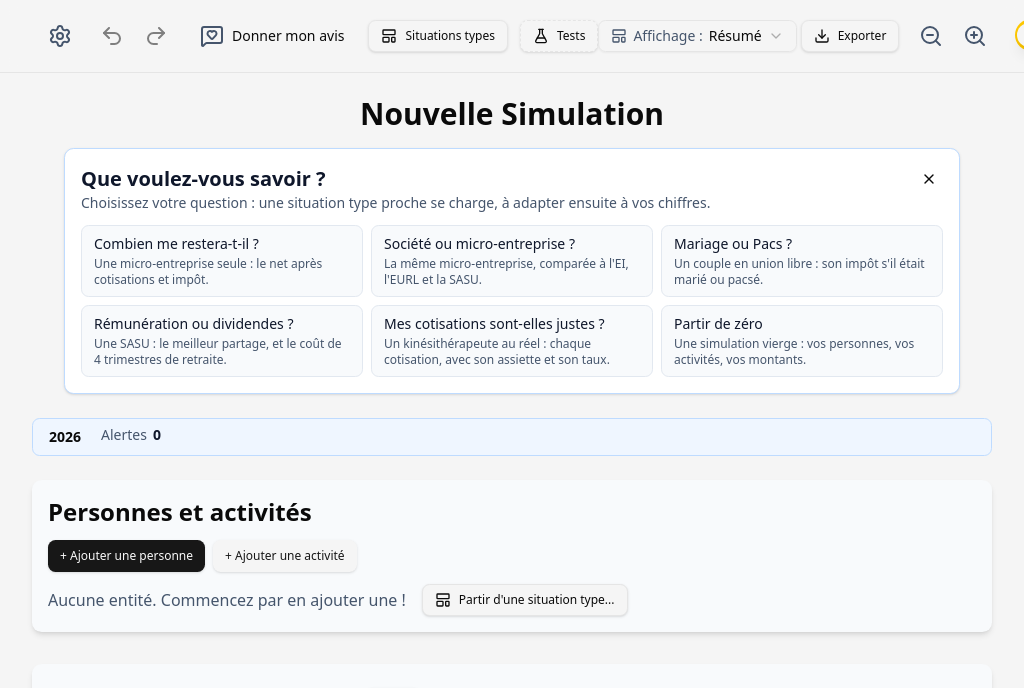
Scenario: App : montages types › depuis une simulation vide, charge un montage sans confirmation, le nomme et remonte en haut
Expected: the heading "Nouvelle Simulation" is shown, left=360, top=93, right=664, bottom=134
What coordinates should you click on to do the following:
click the button "Partir d'une situation type..."
I would click on:
 (525, 600)
Its box is left=422, top=584, right=628, bottom=616.
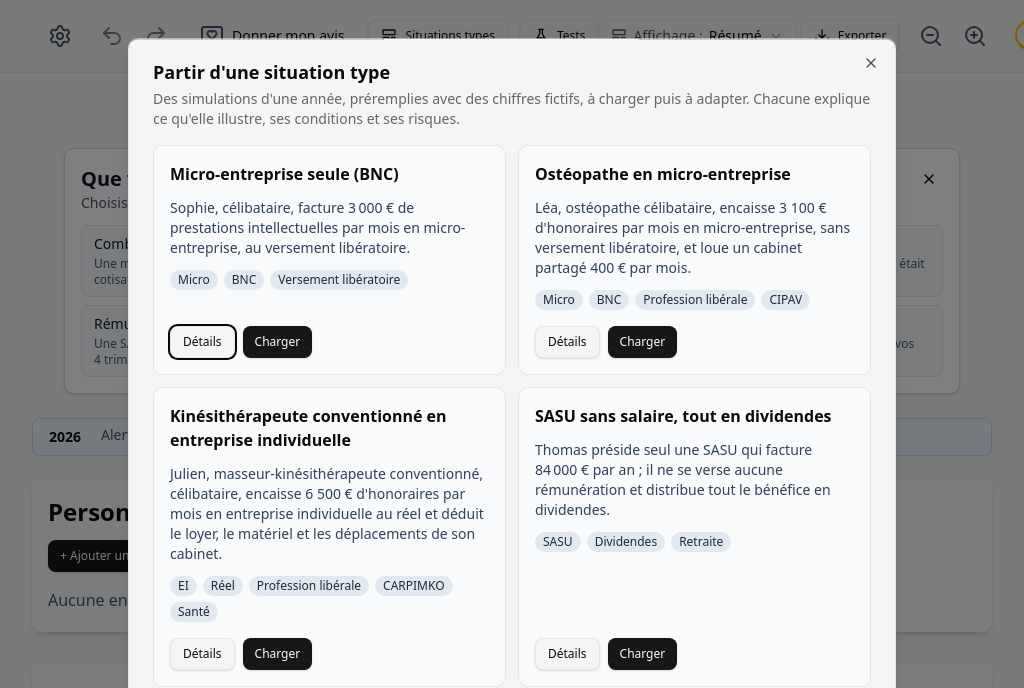
What coordinates should you click on to do the following:
click the button named "Charger la situation « SASU sans salaire, tout en dividendes »"
I would click on:
 (642, 654)
Its box is left=608, top=638, right=677, bottom=670.
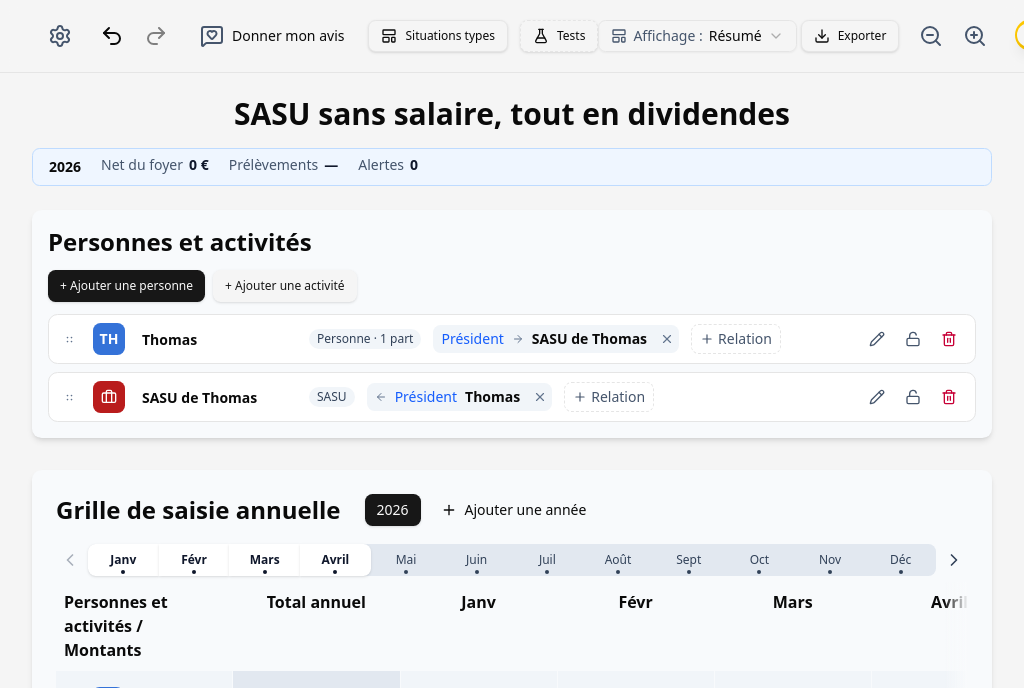
Expected: the heading "SASU sans salaire, tout en dividendes" is shown, left=234, top=93, right=790, bottom=134
Expected: the text "SASU de Thomas" is shown, left=532, top=329, right=647, bottom=349
Expected: the button named "Annuler" is enabled, left=92, top=16, right=132, bottom=56
